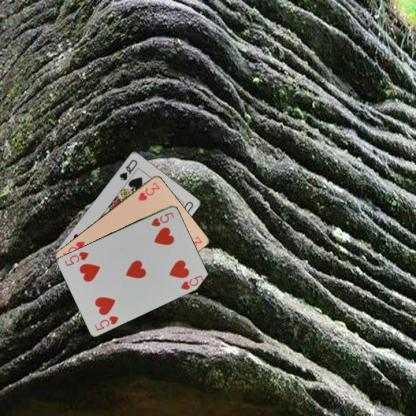3h: (136, 179, 162, 202)
5h: (92, 312, 119, 332), (148, 209, 176, 228)
Qs: (116, 156, 139, 182)
